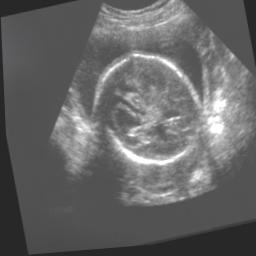abnormal: (78, 36, 215, 183)
